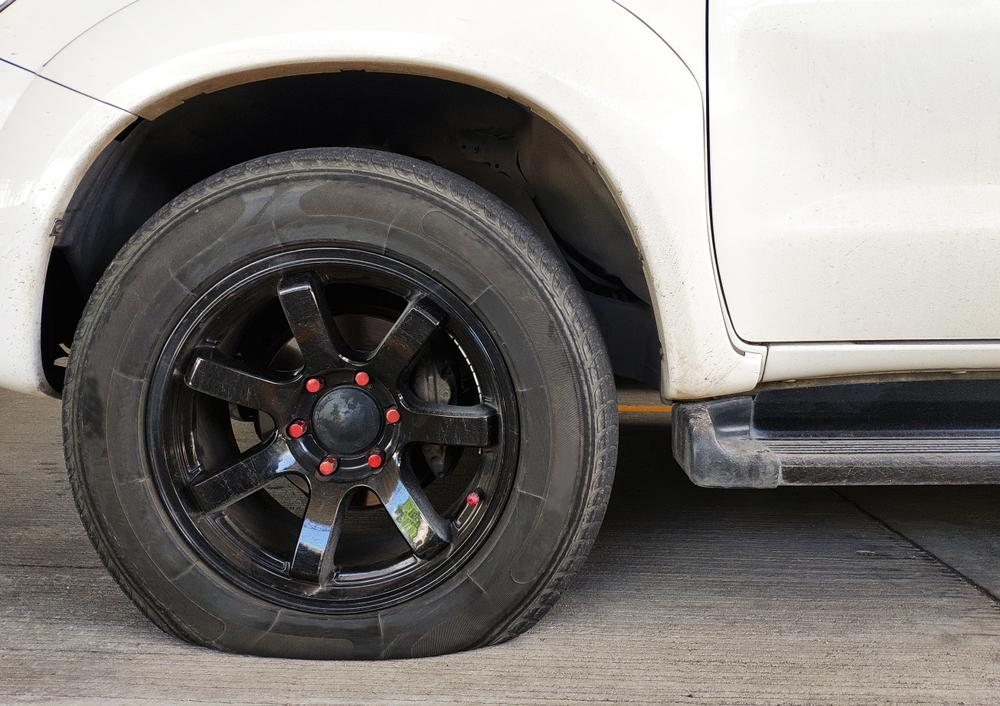tire flat: (64, 144, 623, 662)
